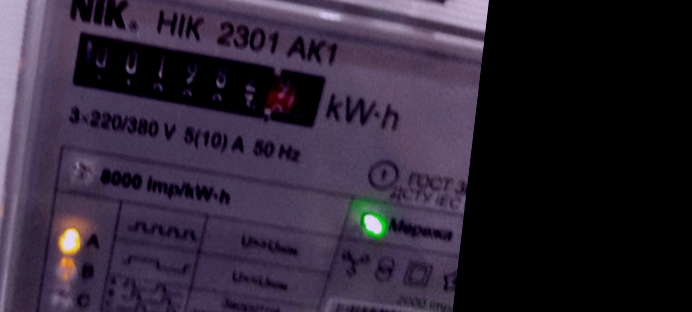0: (121, 47, 142, 77), (92, 40, 111, 71)
1: (153, 50, 169, 81)
2: (242, 64, 264, 95)
8: (213, 61, 232, 91)
9: (273, 73, 296, 103), (182, 57, 200, 87)
screen: (53, 16, 343, 144)
